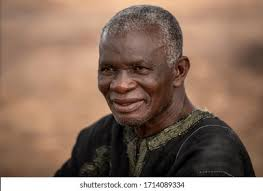person: (96, 3, 191, 129)
